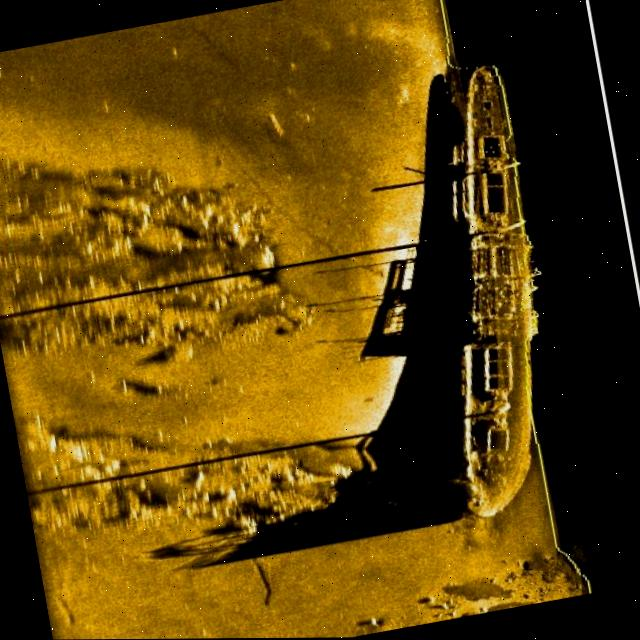shipwreck: (382, 53, 590, 530)
